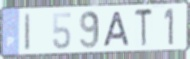1: (162, 7, 176, 48)
5: (52, 11, 72, 51)
9: (78, 10, 100, 50)
A: (101, 11, 131, 48)
I: (23, 12, 32, 52)
T: (134, 7, 154, 50)
